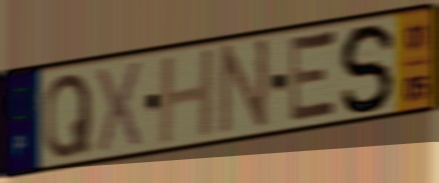E: (287, 27, 339, 128)
H: (157, 44, 217, 150)
N: (217, 34, 272, 138)
Q: (42, 70, 94, 163)
S: (338, 21, 401, 116)
X: (95, 57, 145, 157)
